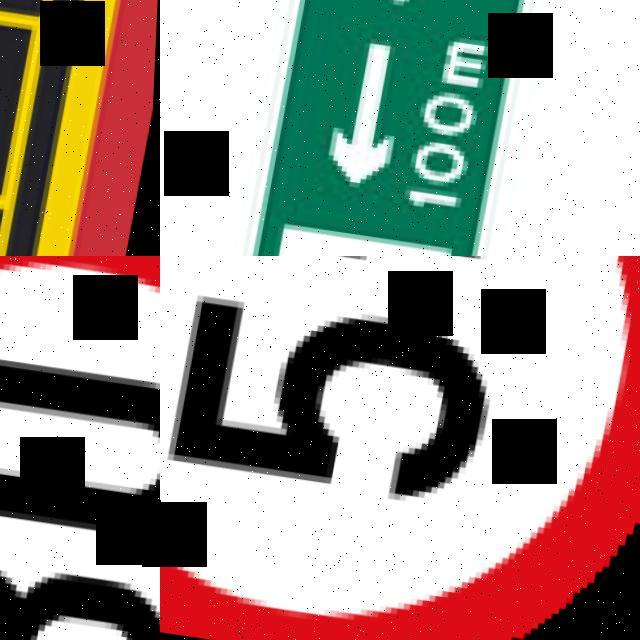129: (198, 0, 562, 256)
163: (0, 0, 160, 256)
Weight limit-5ton: (160, 256, 640, 640)
speed limit-80: (0, 256, 160, 640)
